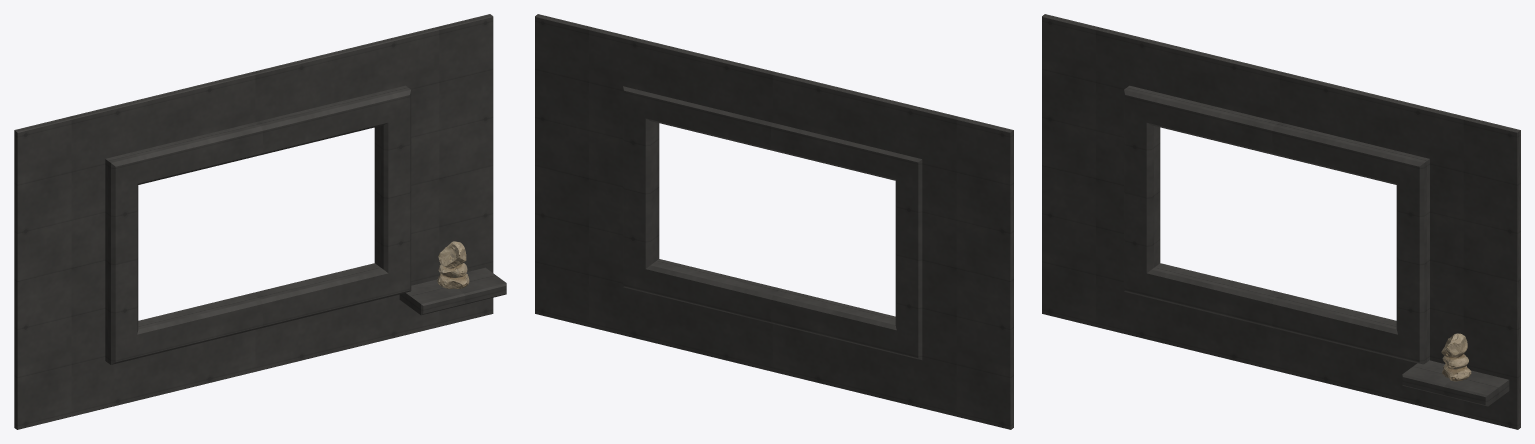
The model's file is beton.glb.
The picture shows the model from 3 angles, left to right: view 1: azimuth 30°, elevation 25°; view 2: azimuth 150°, elevation 25°; view 3: azimuth 330°, elevation 25°; orthographic projection.
Visible parts, largest first — view 1: wall-panel, reveal, shelf, prop-travertine; view 2: wall-panel, reveal; view 3: wall-panel, reveal, shelf, prop-travertine.
Part boxes in pixels (x1,y1,x2,y2): wall-panel: [14, 14, 493, 429]; reveal: [105, 85, 411, 364]; shelf: [399, 267, 506, 315]; prop-travertine: [437, 241, 469, 288]; wall-panel: [535, 14, 1013, 429]; reveal: [623, 86, 922, 359]; wall-panel: [1042, 14, 1520, 429]; reveal: [1124, 85, 1429, 364]; shelf: [1402, 360, 1509, 406]; prop-travertine: [1441, 333, 1471, 381].
Bounding box in the file's own units: 3.11 × 1.86 × 0.31.
Materials: 3 (3 with a texture image).
